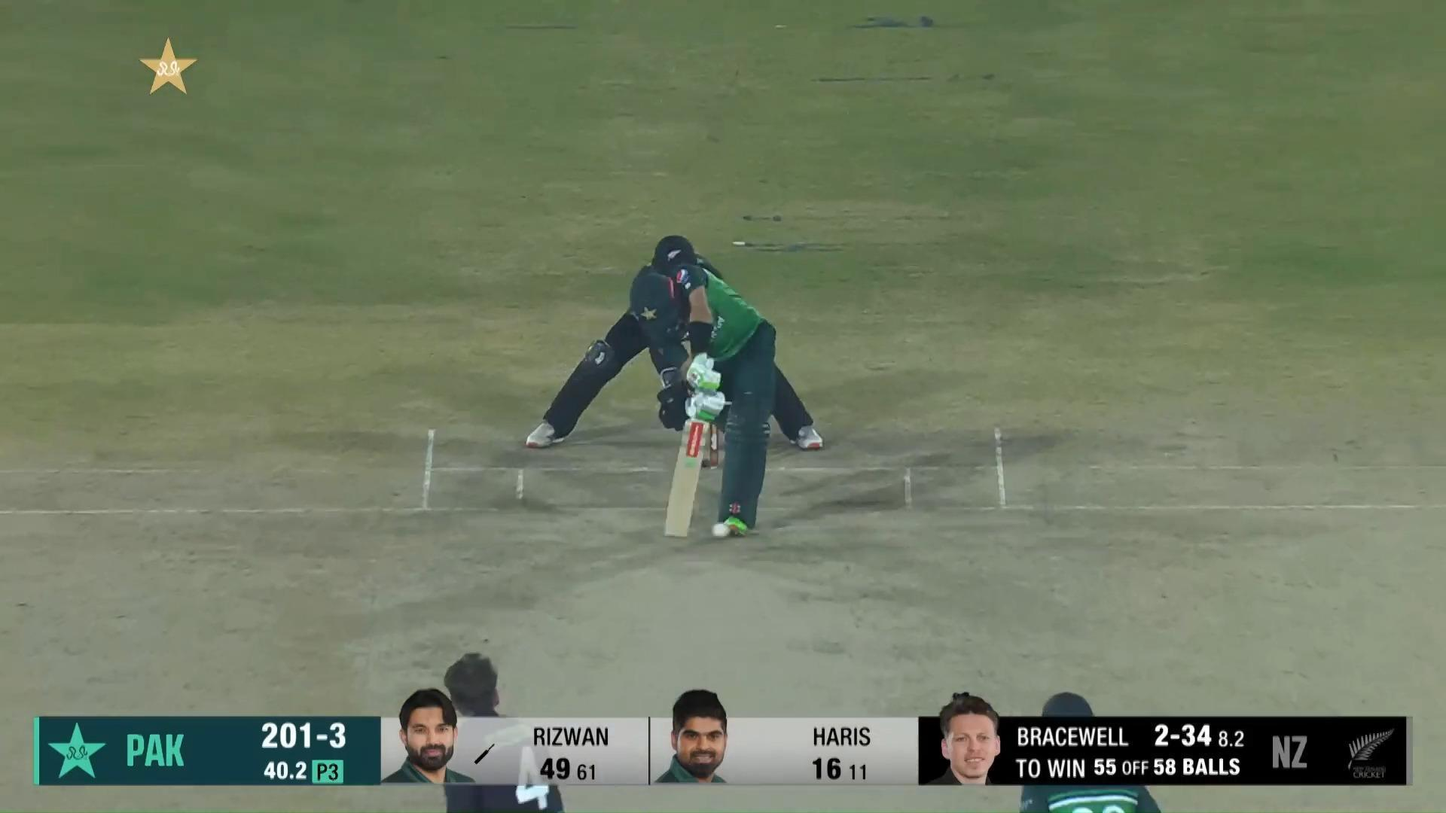BM 1: (631, 262, 777, 537)
BO: (444, 650, 564, 813)
